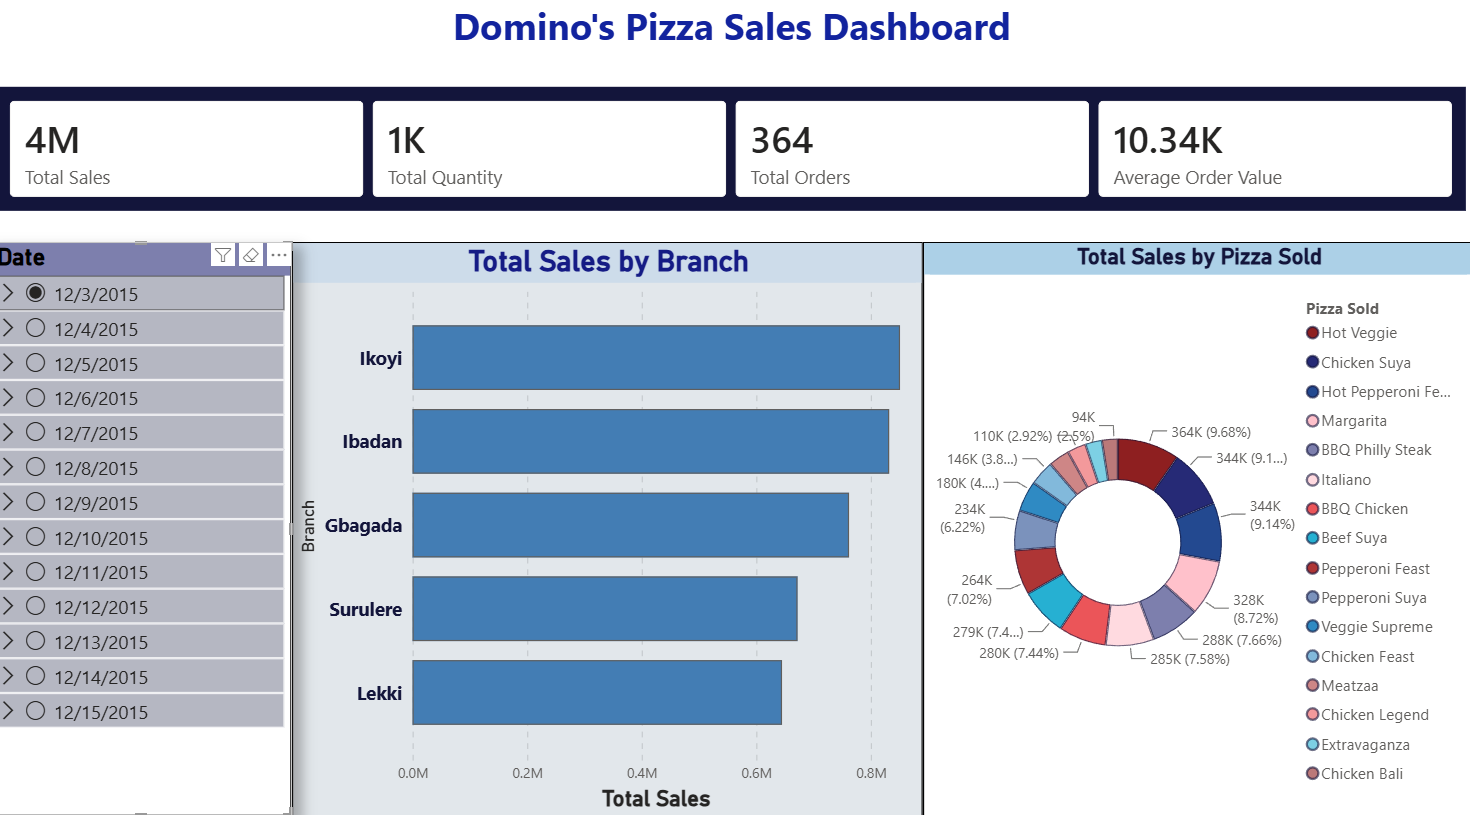

This screenshot's page, from the dashboard's own definition file:
{"tool":"powerbi","page":{"name":"Dashboard Summary","canvas":[1280,720],"ordinal":0},"visuals":[{"type":"cardVisual","fields":{"Data":["Sales Data.Total Sales","Sales Data.Total Quantity","Sales Data.Total Orders","Sales Data.Average Order Value"]},"box":[0,75.3,1280.2,117.3],"z":0},{"type":"clusteredBarChart","fields":{"Category":["Sales Data.Branch"],"Y":["Sales Data.Total Sales"]},"box":[260.5,213.6,544.4,496.3],"z":1000},{"type":"donutChart","fields":{"Category":["Sales Data.Pizza Sold"],"Y":["Sales Data.Total Sales"]},"box":[804.9,213.6,475.3,496.3],"z":2000},{"type":"listSlicer","fields":{"Values":["Sales Data.Date","Sales Data.Branch","Sales Data.Pizza Sold"]},"box":[0,213.6,260.5,495.1],"z":3000},{"type":"textbox","box":[344.4,0,591.4,75.3],"z":4000}]}

Visuals, with their boxes in screenshot pixels (x1, y1, x2, y2), scaled from the page's 1280x720 canvas onto the 1470x815 screenshot:
cardVisual - Sales Data.Total Sales x Sales Data.Total Quantity: detection(0, 85, 1469, 218)
clusteredBarChart - Sales Data.Branch x Sales Data.Total Sales: detection(299, 242, 924, 804)
donutChart - Sales Data.Pizza Sold x Sales Data.Total Sales: detection(924, 242, 1469, 804)
listSlicer - Sales Data.Date x Sales Data.Branch: detection(0, 242, 299, 802)
textbox: detection(396, 0, 1075, 85)
